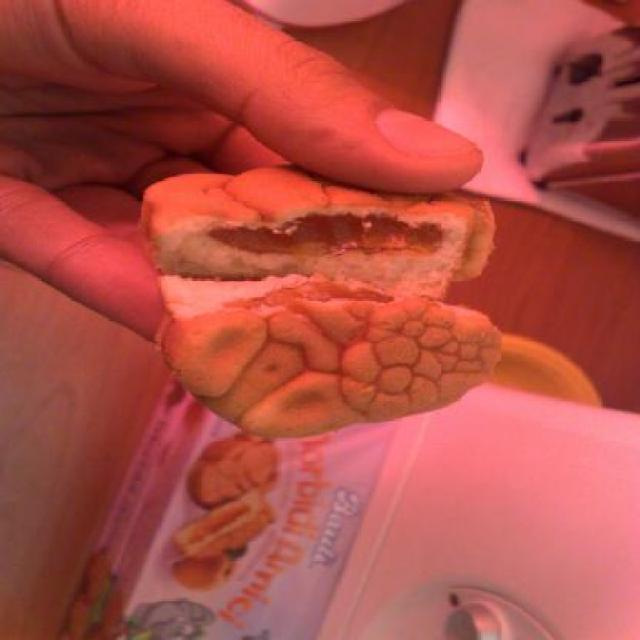Merendine packaged: (134, 165, 503, 442)
